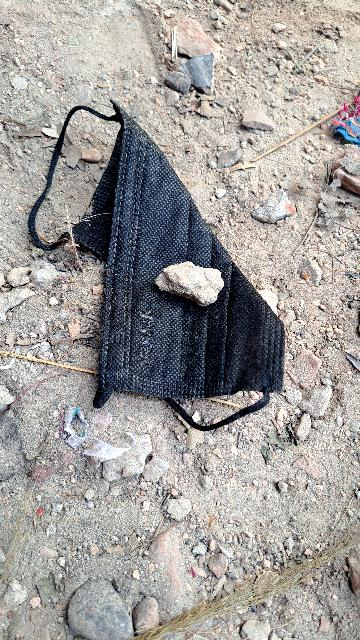mask: (87, 105, 287, 413)
